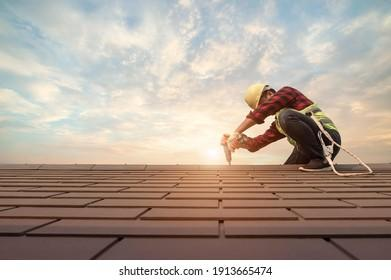gloves: (227, 132, 250, 152)
